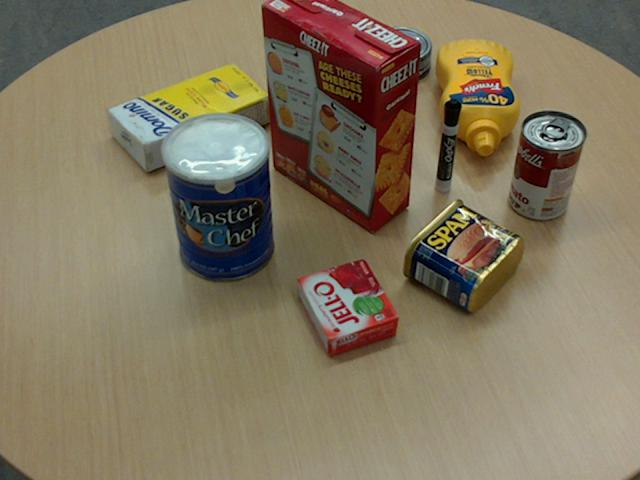cracker_box: (261, 0, 419, 231)
gelatin_box: (297, 258, 398, 355)
large_marker: (435, 99, 460, 191)
master_chef_can: (161, 112, 273, 281)
mug: (324, 34, 401, 126)
mustard_bottle: (434, 39, 519, 155)
potted_meat_can: (401, 197, 522, 310)
sugar_box: (106, 62, 271, 170)
tomato_soup_can: (509, 110, 585, 219)
tuna_fish_can: (366, 26, 430, 81)
